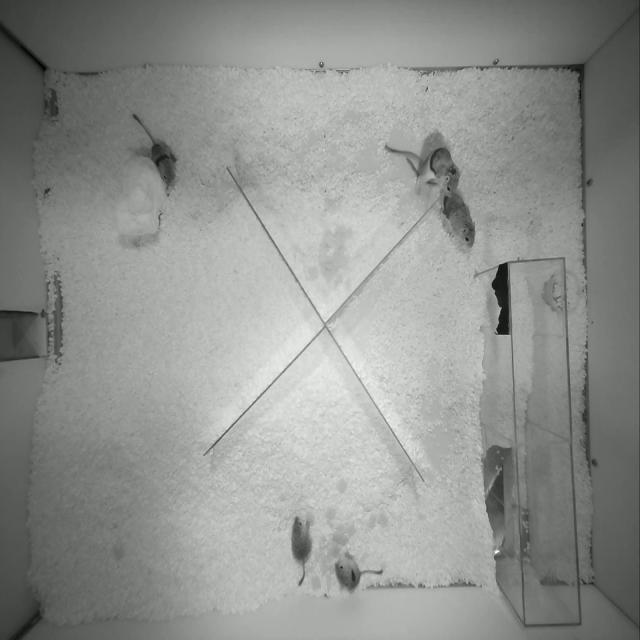adult_back: (442, 192, 475, 247)
adult_front: (385, 145, 459, 195)
pup_fluffy: (291, 516, 312, 586)
pup_h_stripe: (133, 114, 176, 187)
pup_spotted: (335, 551, 383, 591)
